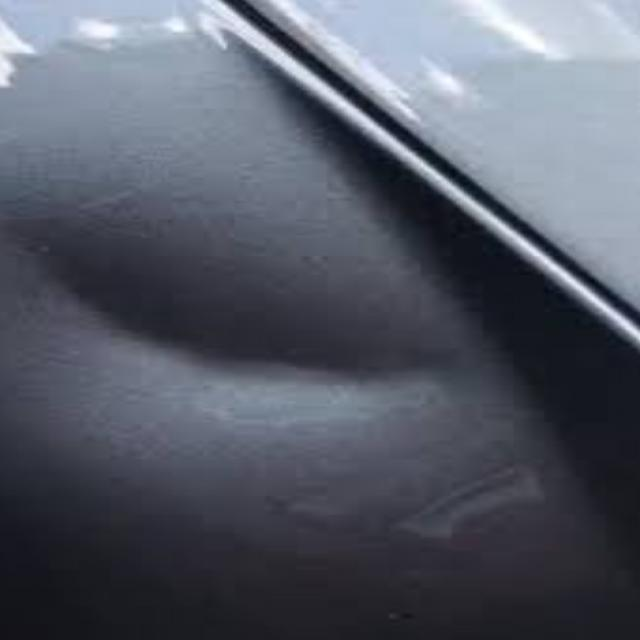dents: (14, 222, 498, 463)
